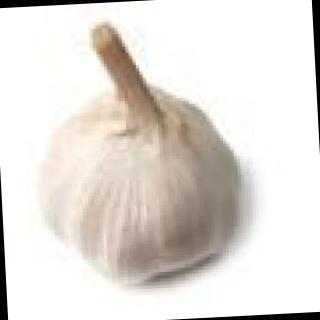Bawang Putih: (29, 16, 257, 292)
